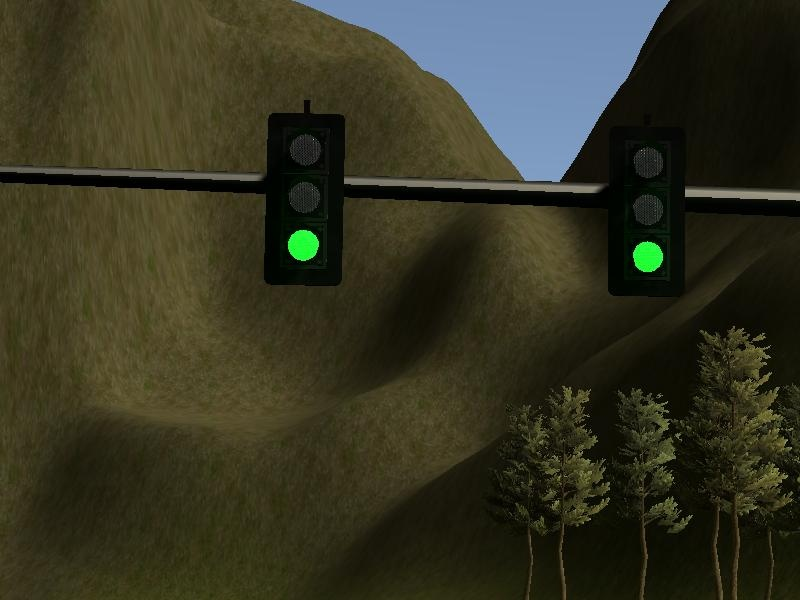green: (268, 112, 345, 287), (608, 125, 686, 293)
